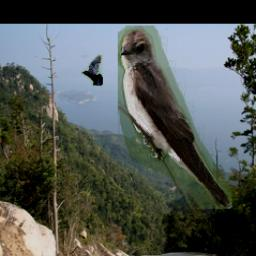Crow: (81, 54, 103, 86)
Swallow: (119, 26, 234, 209)
